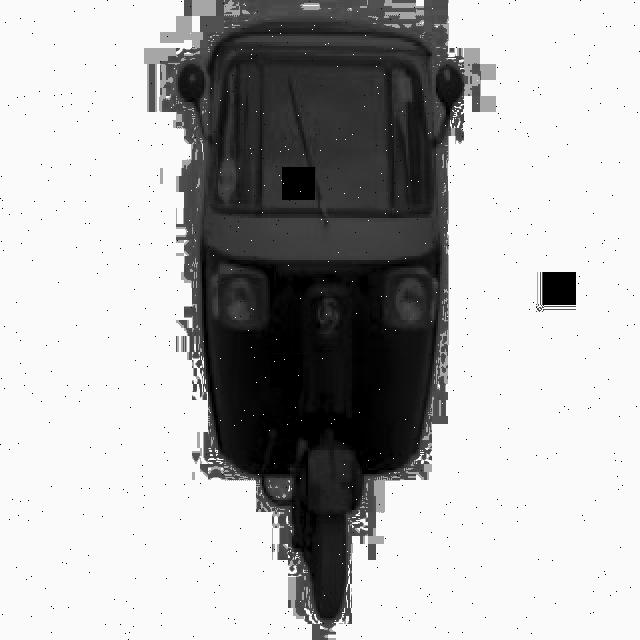Auto-Rickshaw: (154, 22, 516, 640)
